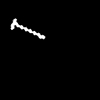half_double_crochet: (11, 19, 44, 38)
